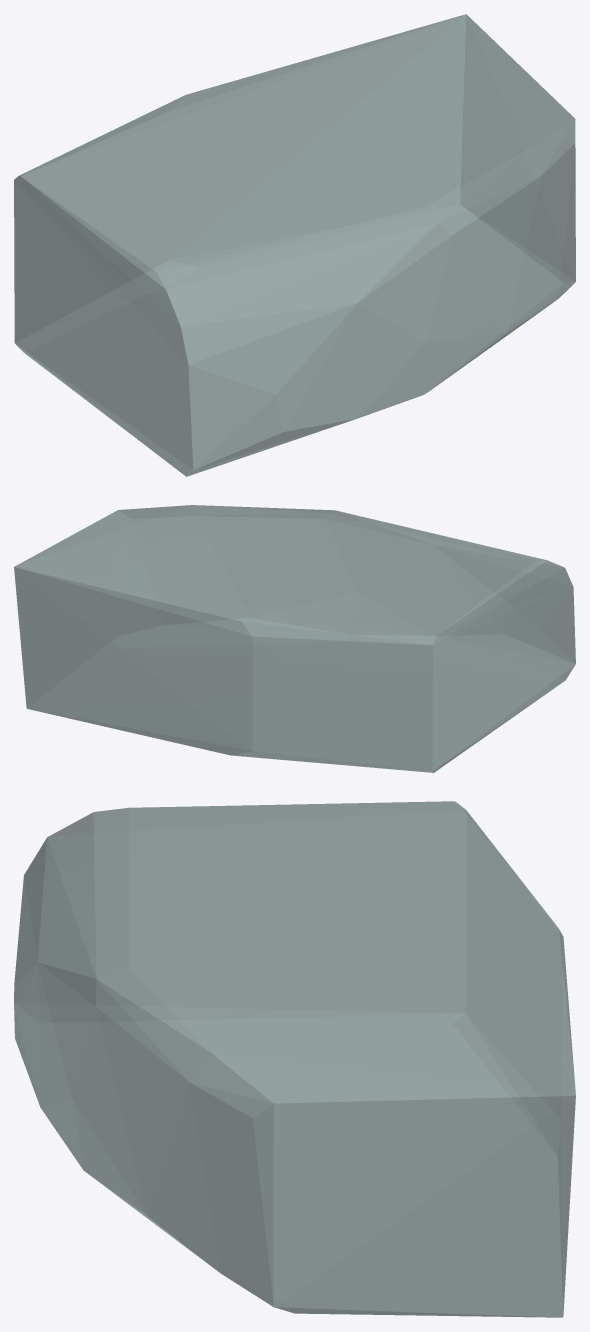
3 renders of one model, top to bottom at view 1: azimuth 30°, elevation 25°; view 2: azimuth 150°, elevation 25°; view 3: azimuth 270°, elevation 25°, orthographic. The views are drawn at different scales.
Parts seen in each view (by area): view 1: Shape_IndexedFaceSet.010_Shape_IndexedFaceSet.5545; view 2: Shape_IndexedFaceSet.010_Shape_IndexedFaceSet.5545; view 3: Shape_IndexedFaceSet.010_Shape_IndexedFaceSet.5545.
Part boxes in pixels (<box>): Shape_IndexedFaceSet.010_Shape_IndexedFaceSet.5545: <box>14,14,575,476</box>; Shape_IndexedFaceSet.010_Shape_IndexedFaceSet.5545: <box>14,505,575,772</box>; Shape_IndexedFaceSet.010_Shape_IndexedFaceSet.5545: <box>14,801,575,1317</box>.
Size of the model in its own units: 0.2429 by 0.0854 by 0.1903.
